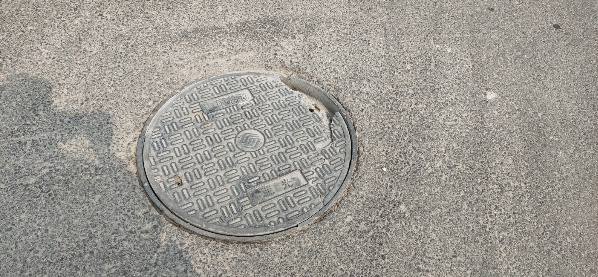broke: (135, 70, 359, 243)
